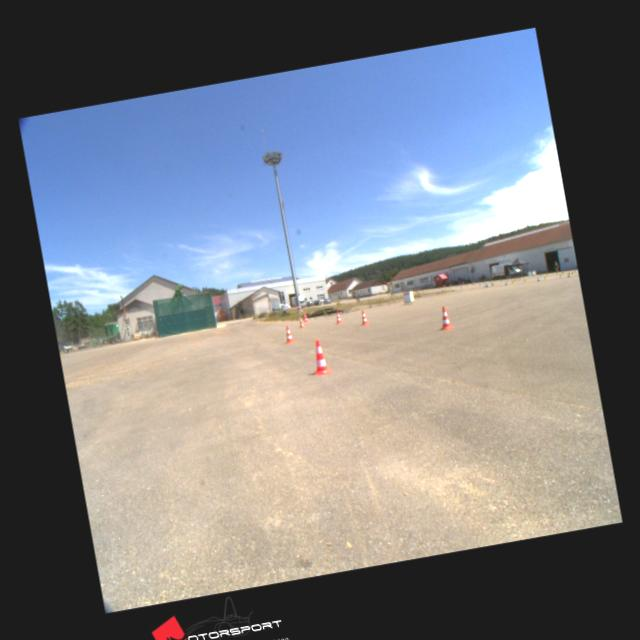large_orange_cone: (308, 338, 330, 374), (437, 304, 452, 328), (283, 324, 294, 343), (359, 309, 369, 324), (334, 310, 342, 324), (296, 315, 304, 328), (302, 312, 308, 322)
